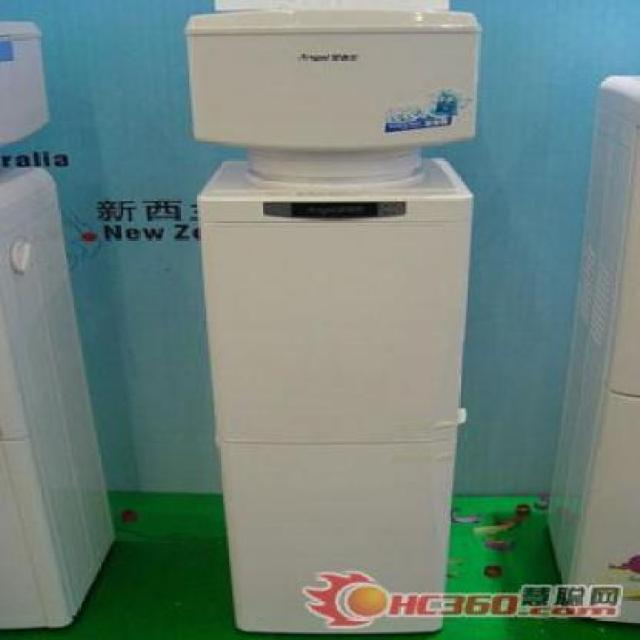cooler: (185, 0, 483, 640)
